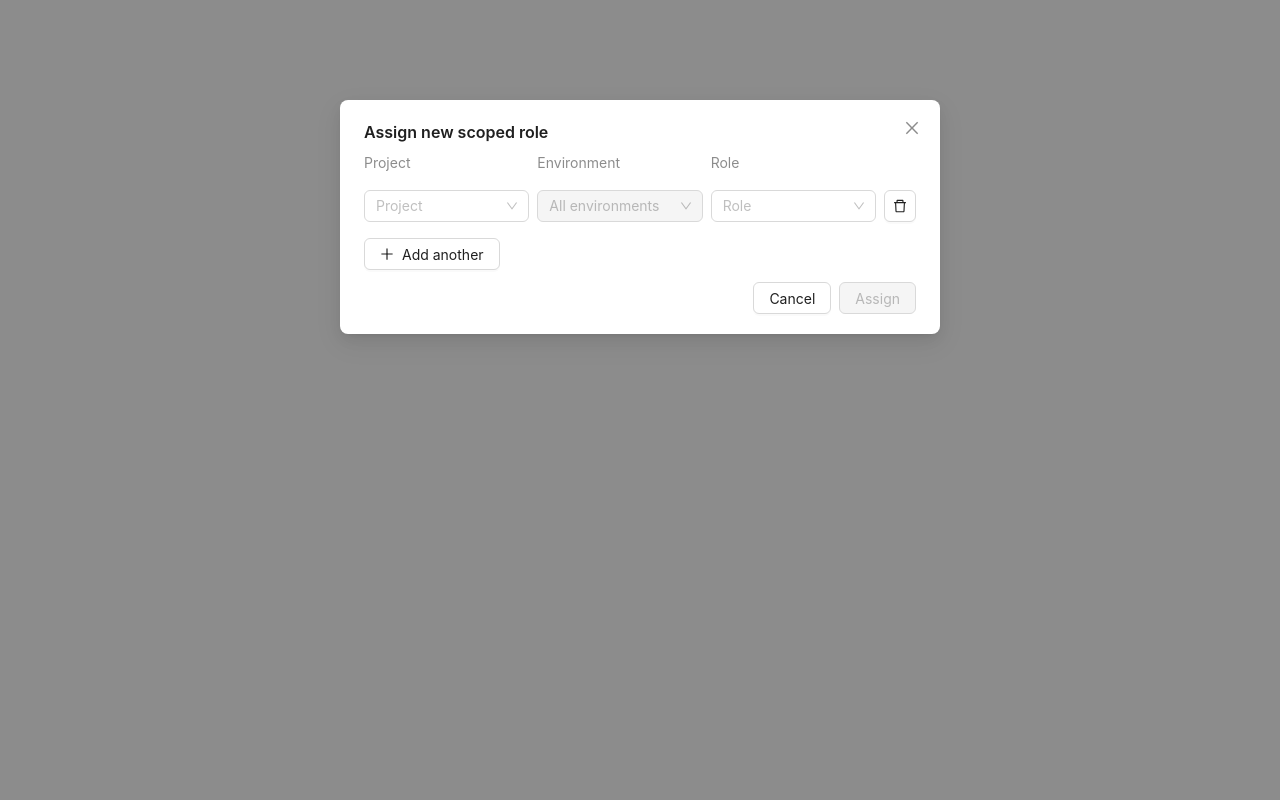
Test: AssignRolesModal › should load environments when a project is selected
expect the text "Assign new scoped role" is shown: met, box [364,122,548,142]
Click the dropdown named "Select a project" at point(399, 206), box [376,197,422,214]
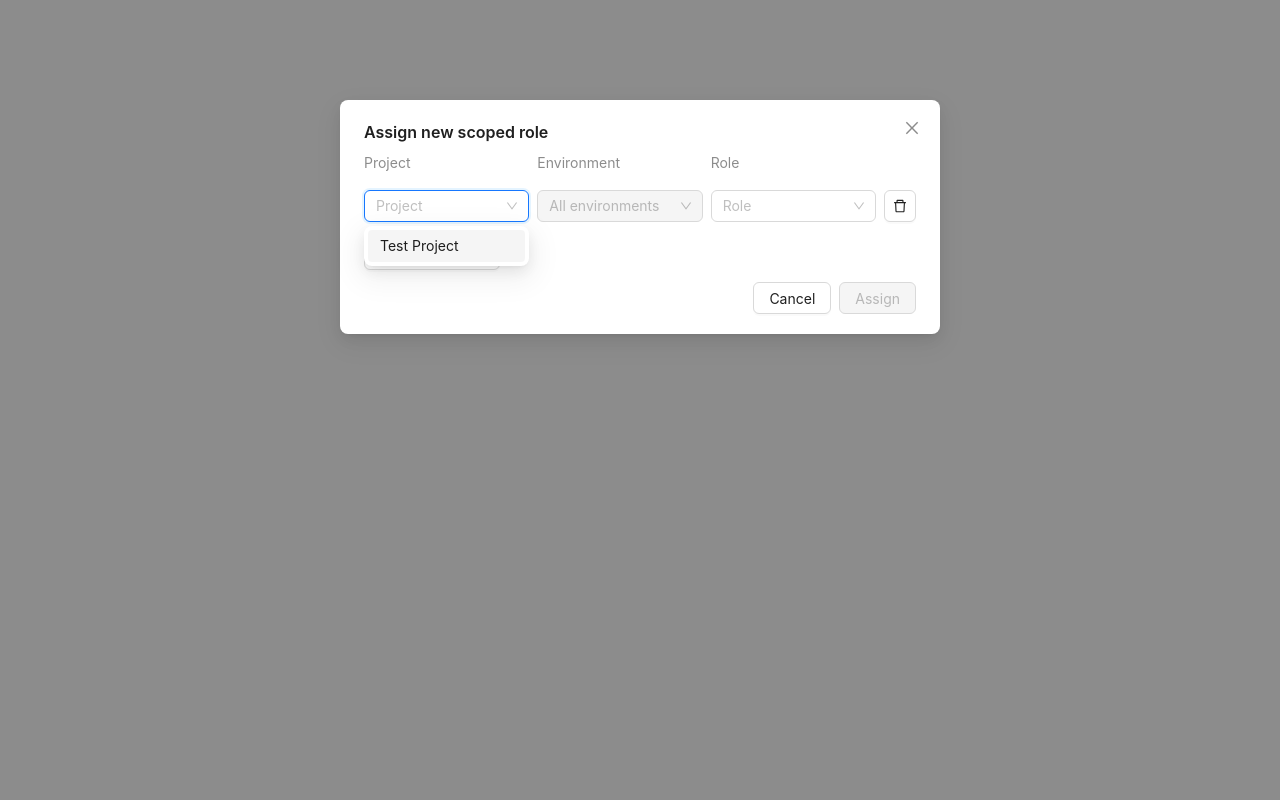
expect the text "Test Project" is shown: met
Click the text "Test Project" at point(419, 246), box [380,237,458,254]
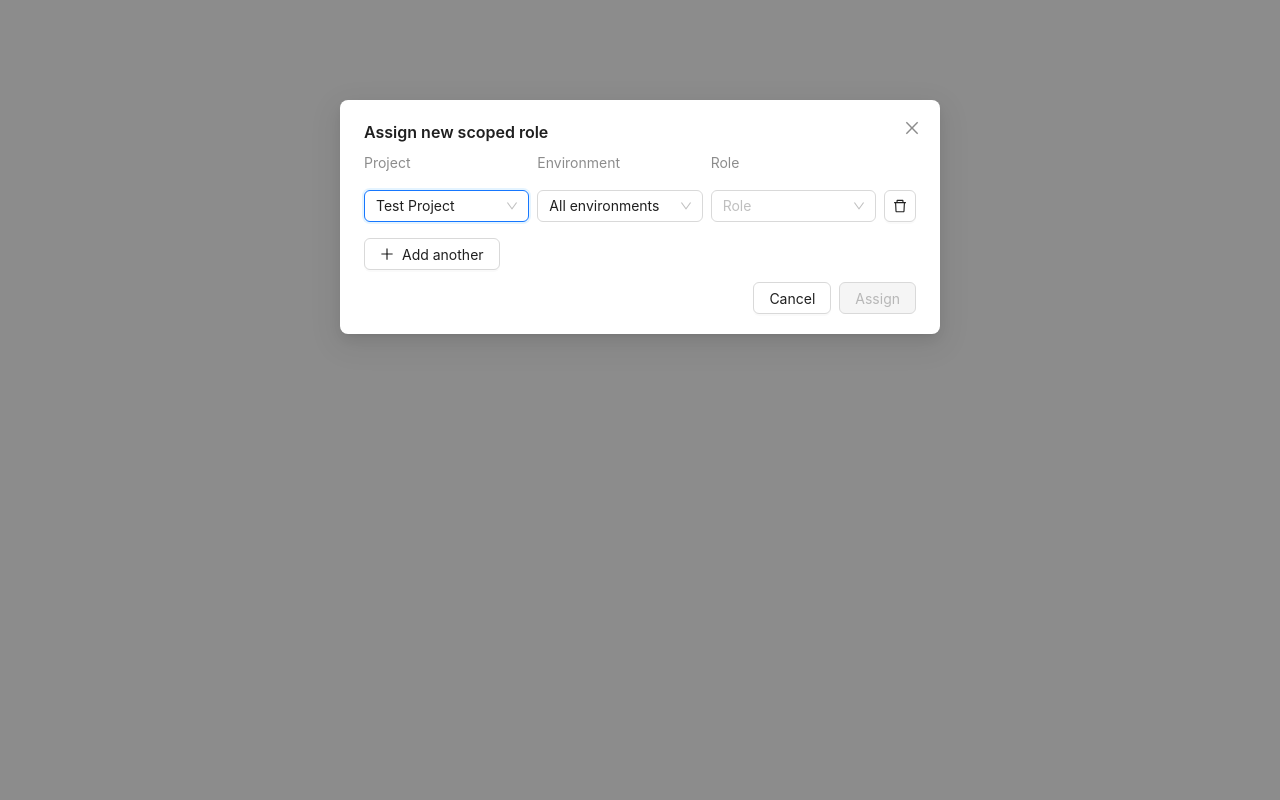
// Click on the environment dropdown to see the options
Click the dropdown named "Select an environment" at point(604, 206), box [549,197,659,214]
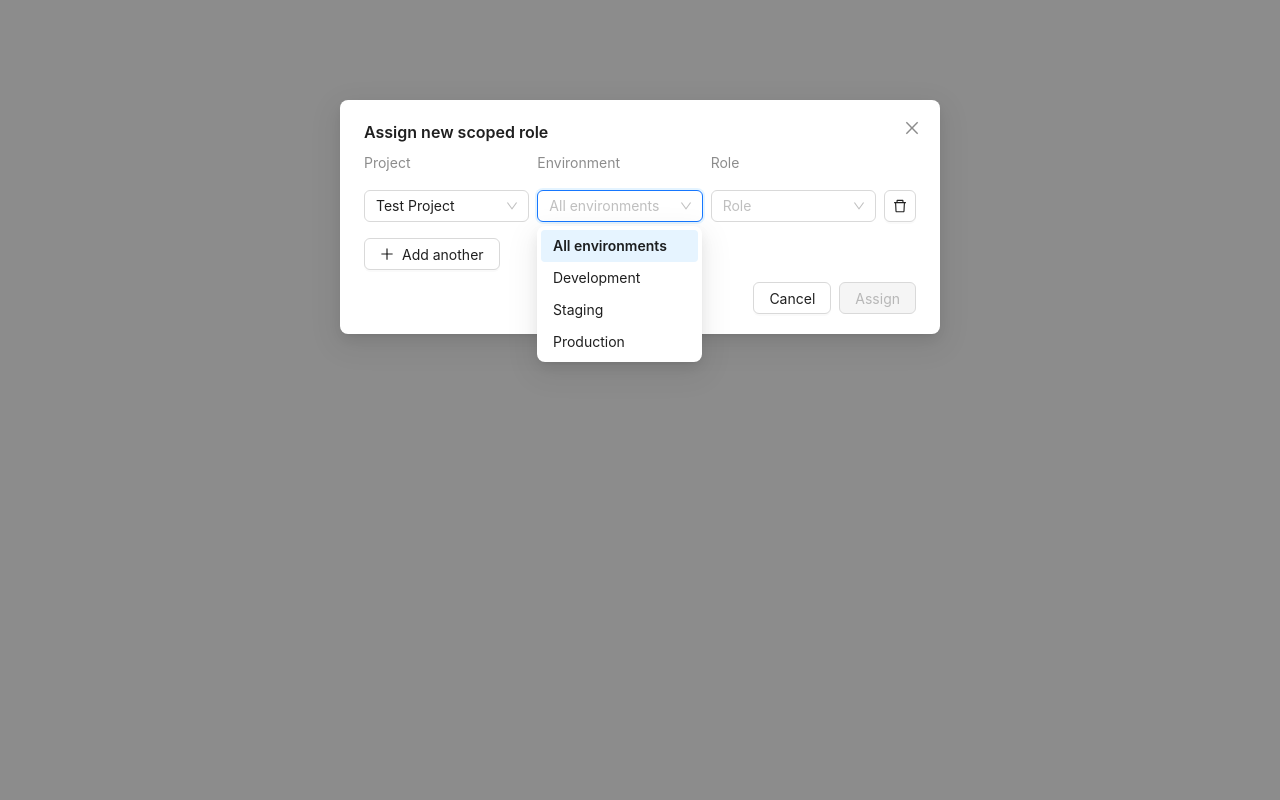
expect the text "Development" is shown: met, box [553,269,640,286]
expect the text "Staging" is shown: met, box [553,301,603,318]
expect the text "Production" is shown: met, box [553,333,625,350]
